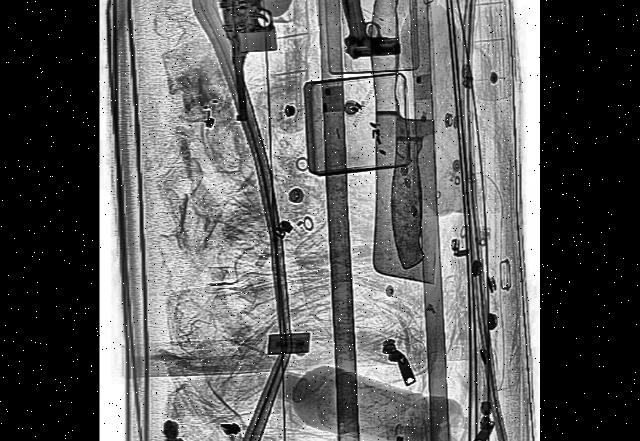Gun: (217, 0, 311, 125), (341, 0, 401, 62)
Knife: (372, 0, 439, 282), (392, 0, 431, 269)
